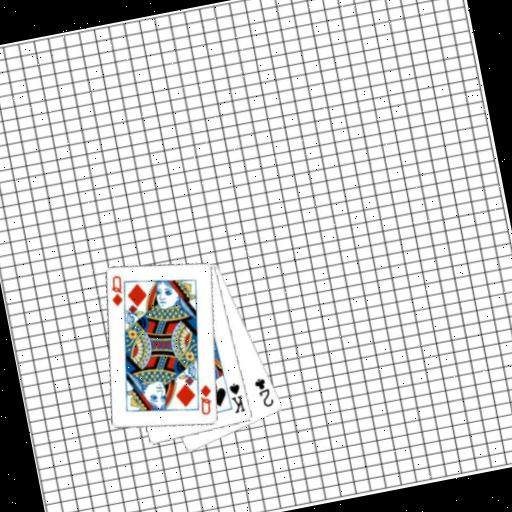2C: (251, 374, 277, 411)
KS: (226, 379, 248, 416)
QD: (104, 272, 128, 310), (194, 381, 218, 418)
